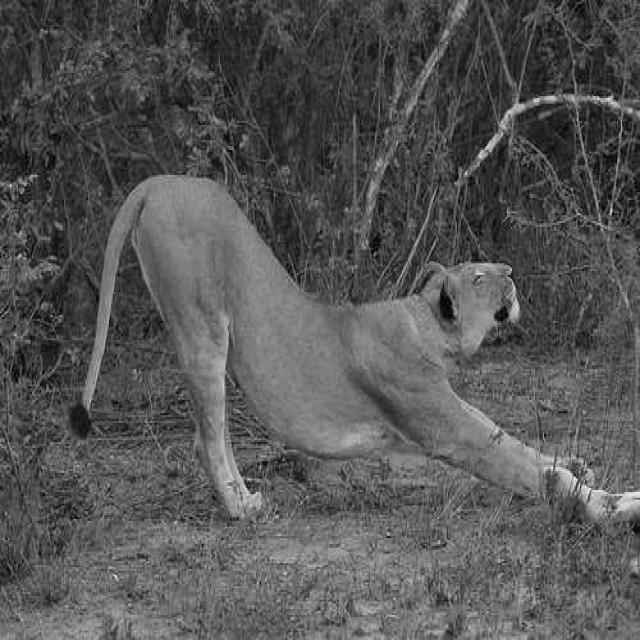Lion: (100, 32, 591, 468)
